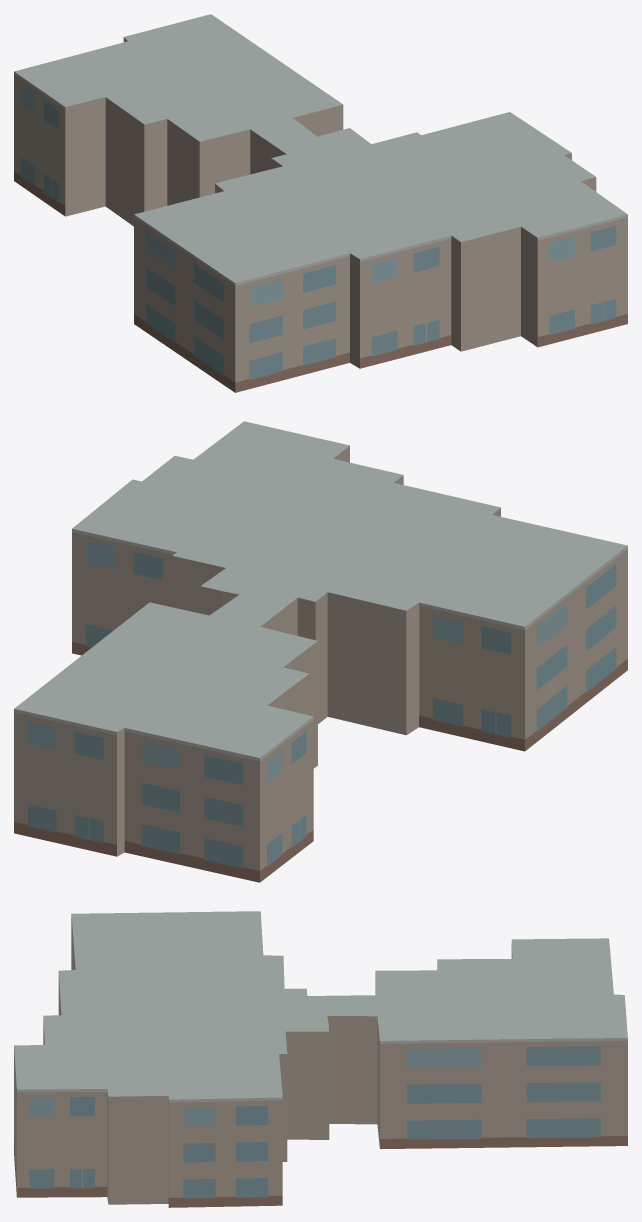
The model's file is survey-upis-32588767.glb.
The picture shows the model from 3 angles, top to bottom: view 1: azimuth 30°, elevation 25°; view 2: azimuth 150°, elevation 25°; view 3: azimuth 270°, elevation 25°; orthographic projection. The views are drawn at different scales.
Parts seen in each view (by area): view 1: survey-upis-32588767.tmp; view 2: survey-upis-32588767.tmp; view 3: survey-upis-32588767.tmp.
Boxes of the visible parts, bbox=[...] form: survey-upis-32588767.tmp: bbox=[14, 14, 627, 392]; survey-upis-32588767.tmp: bbox=[14, 421, 627, 882]; survey-upis-32588767.tmp: bbox=[14, 911, 627, 1207].
Size of the model in its own units: 34.24 by 9.15 by 47.1.
